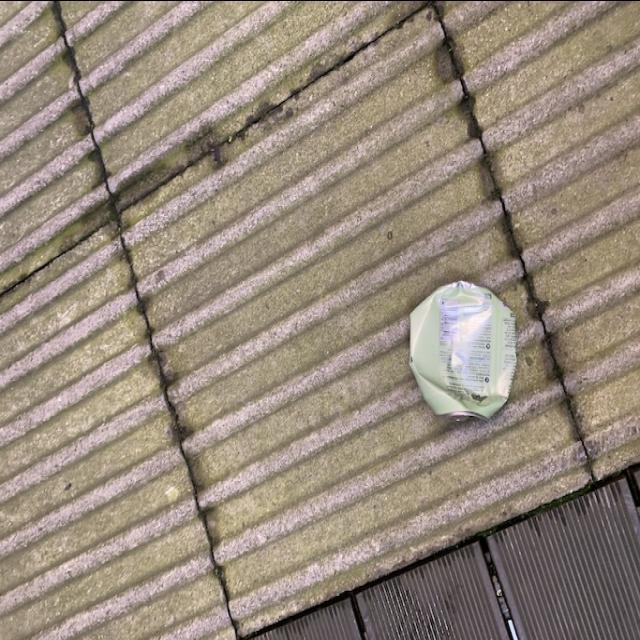Aluminum Can: (404, 271, 520, 420)
